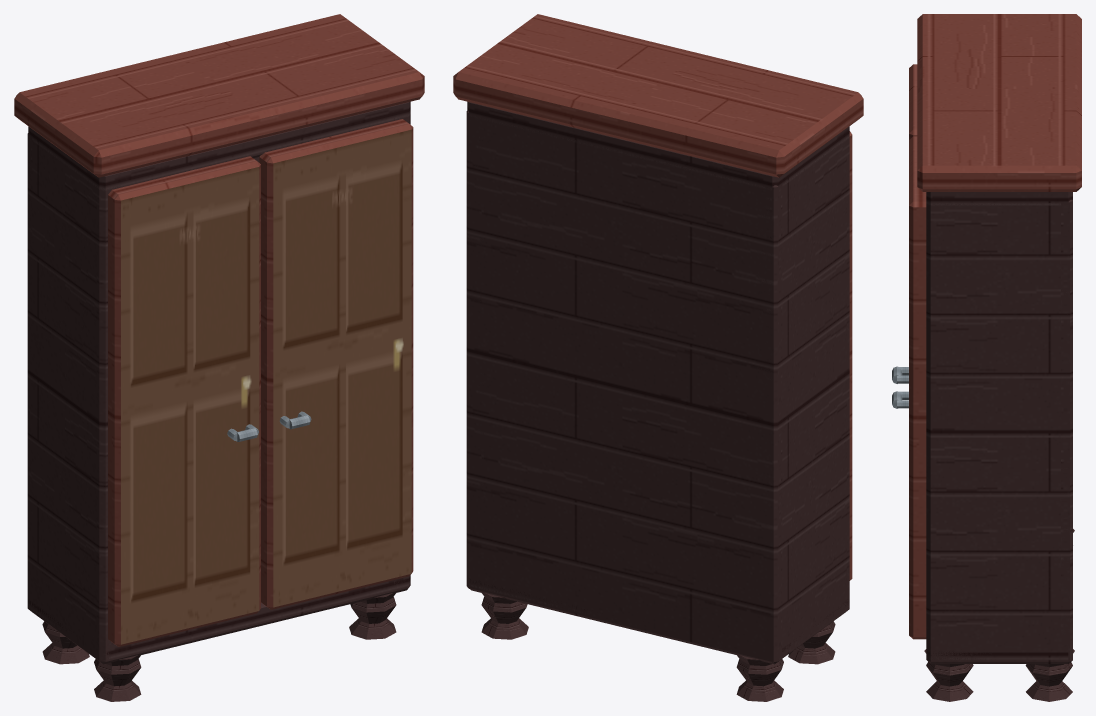
Rendered from MD_114_DocumentCabinet.fbx.
3 views of the same model, side by side, from view 1: azimuth 30°, elevation 25°; view 2: azimuth 150°, elevation 25°; view 3: azimuth 270°, elevation 25° (orthographic). The views are drawn at different scales.
Parts seen in each view (by area): view 1: MD_114_DocumentCabinet_hinged_door.001, MD_114_DocumentCabinet_hinged_door, MD_114_DocumentCabinet_cabinet_side, MD_114_DocumentCabinet_cabinet_crown, MD_114_DocumentCabinet_cabinet_shelf.001, MD_114_DocumentCabinet_cabinet_shelf, MD_114_DocumentCabinet_turned_leg, MD_114_DocumentCabinet_turned_leg.002, MD_114_DocumentCabinet_cabinet_back, MD_114_DocumentCabinet_turned_leg.001; view 2: MD_114_DocumentCabinet_cabinet_back, MD_114_DocumentCabinet_cabinet_crown, MD_114_DocumentCabinet_cabinet_side, MD_114_DocumentCabinet_cabinet_shelf.001, MD_114_DocumentCabinet_hinged_door, MD_114_DocumentCabinet_cabinet_shelf, MD_114_DocumentCabinet_turned_leg.001, MD_114_DocumentCabinet_turned_leg.003, MD_114_DocumentCabinet_cabinet_side.001, MD_114_DocumentCabinet_turned_leg; view 3: MD_114_DocumentCabinet_cabinet_side.001, MD_114_DocumentCabinet_cabinet_crown, MD_114_DocumentCabinet_hinged_door.001, MD_114_DocumentCabinet_cabinet_back, MD_114_DocumentCabinet_cabinet_shelf, MD_114_DocumentCabinet_cabinet_shelf.001, MD_114_DocumentCabinet_turned_leg.002, MD_114_DocumentCabinet_turned_leg.003, MD_114_DocumentCabinet_hinged_door.
Boxes of the visible parts, x1=… form: MD_114_DocumentCabinet_hinged_door.001: x1=259, y1=119, x2=413, y2=609; MD_114_DocumentCabinet_hinged_door: x1=108, y1=156, x2=260, y2=646; MD_114_DocumentCabinet_cabinet_side: x1=28, y1=136, x2=120, y2=660; MD_114_DocumentCabinet_cabinet_crown: x1=14, y1=14, x2=424, y2=177; MD_114_DocumentCabinet_cabinet_shelf.001: x1=28, y1=101, x2=410, y2=192; MD_114_DocumentCabinet_cabinet_shelf: x1=28, y1=575, x2=410, y2=664; MD_114_DocumentCabinet_turned_leg: x1=94, y1=655, x2=141, y2=701; MD_114_DocumentCabinet_turned_leg.002: x1=349, y1=593, x2=396, y2=639; MD_114_DocumentCabinet_cabinet_back: x1=27, y1=133, x2=259, y2=608; MD_114_DocumentCabinet_turned_leg.001: x1=42, y1=621, x2=89, y2=664; MD_114_DocumentCabinet_cabinet_back: x1=466, y1=110, x2=782, y2=663; MD_114_DocumentCabinet_cabinet_crown: x1=453, y1=14, x2=863, y2=177; MD_114_DocumentCabinet_cabinet_side: x1=757, y1=136, x2=849, y2=656; MD_114_DocumentCabinet_cabinet_shelf.001: x1=467, y1=101, x2=849, y2=192; MD_114_DocumentCabinet_hinged_door: x1=849, y1=131, x2=852, y2=580; MD_114_DocumentCabinet_cabinet_shelf: x1=469, y1=578, x2=849, y2=664; MD_114_DocumentCabinet_turned_leg.001: x1=736, y1=655, x2=783, y2=701; MD_114_DocumentCabinet_turned_leg.003: x1=481, y1=593, x2=528, y2=639; MD_114_DocumentCabinet_cabinet_side.001: x1=469, y1=115, x2=483, y2=586; MD_114_DocumentCabinet_turned_leg: x1=788, y1=621, x2=835, y2=664; MD_114_DocumentCabinet_cabinet_side.001: x1=926, y1=203, x2=1068, y2=660; MD_114_DocumentCabinet_cabinet_crown: x1=917, y1=14, x2=1081, y2=191; MD_114_DocumentCabinet_hinged_door.001: x1=909, y1=136, x2=926, y2=639; MD_114_DocumentCabinet_cabinet_back: x1=1061, y1=199, x2=1072, y2=662; MD_114_DocumentCabinet_cabinet_shelf: x1=926, y1=646, x2=1068, y2=663; MD_114_DocumentCabinet_cabinet_shelf.001: x1=926, y1=192, x2=1072, y2=207; MD_114_DocumentCabinet_turned_leg.002: x1=924, y1=649, x2=973, y2=701; MD_114_DocumentCabinet_turned_leg.003: x1=1025, y1=649, x2=1074, y2=701; MD_114_DocumentCabinet_hinged_door: x1=909, y1=64, x2=917, y2=139.
Size of the model in its own units: 1.01 by 1.64 by 0.519.
4 materials, 4 textured.
